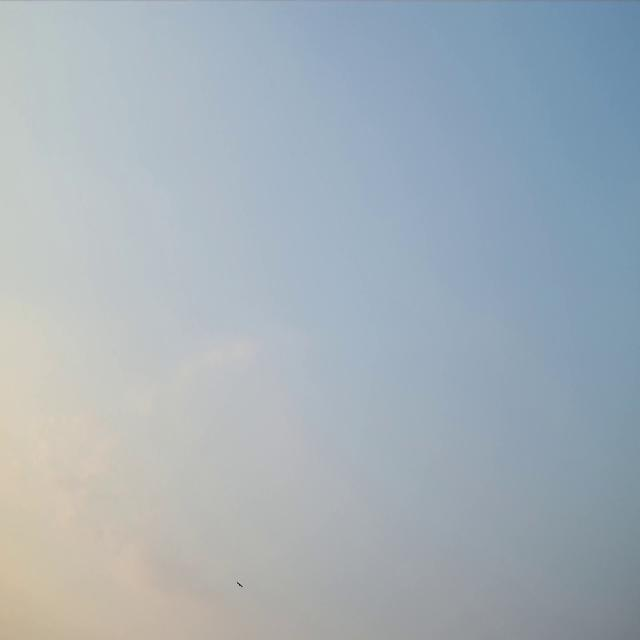UAV: (237, 582, 242, 586)
